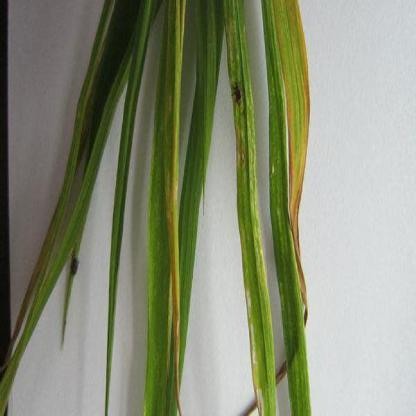rice-bug: (231, 81, 244, 105), (69, 252, 81, 277)
